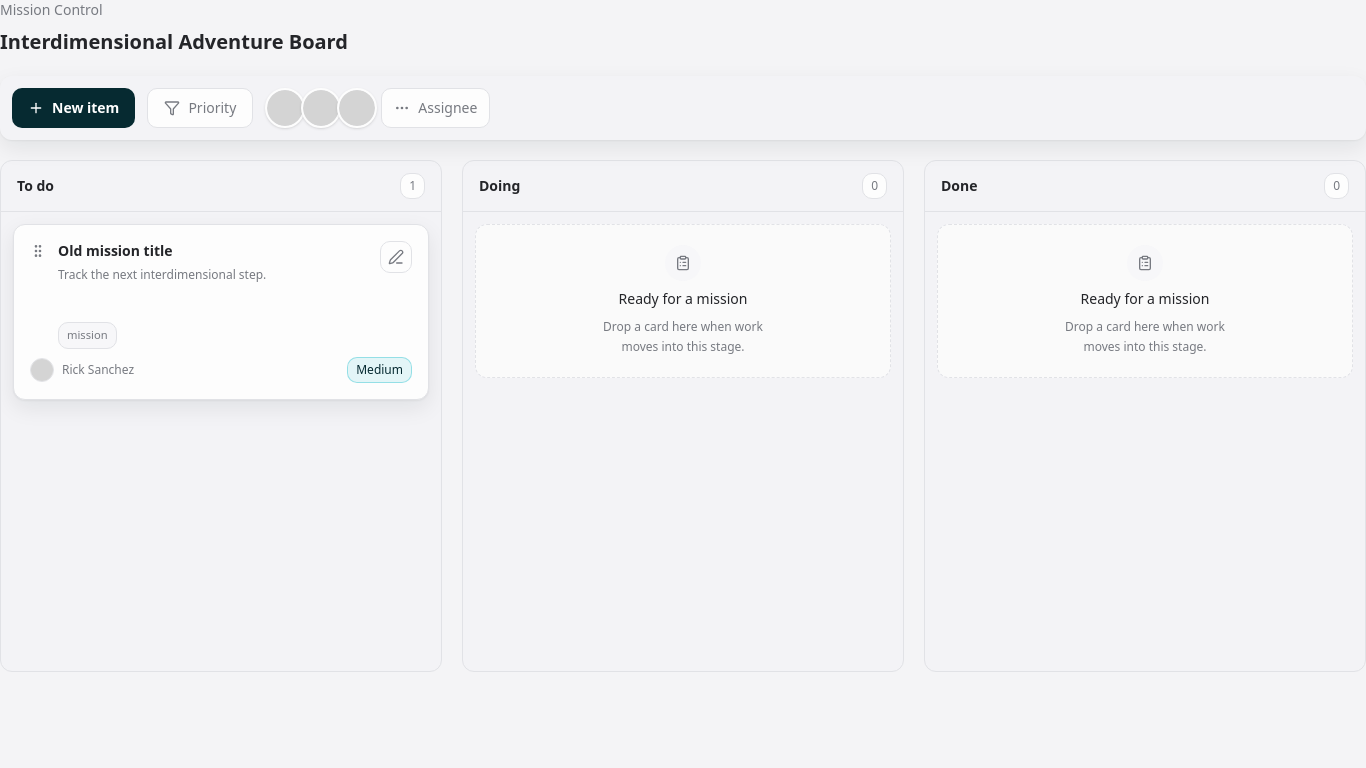
KanbanBoard › edits a card title through the dialog and updates the visible card
Click the button "Old mission title": [115, 251] box [58,241,173,261]
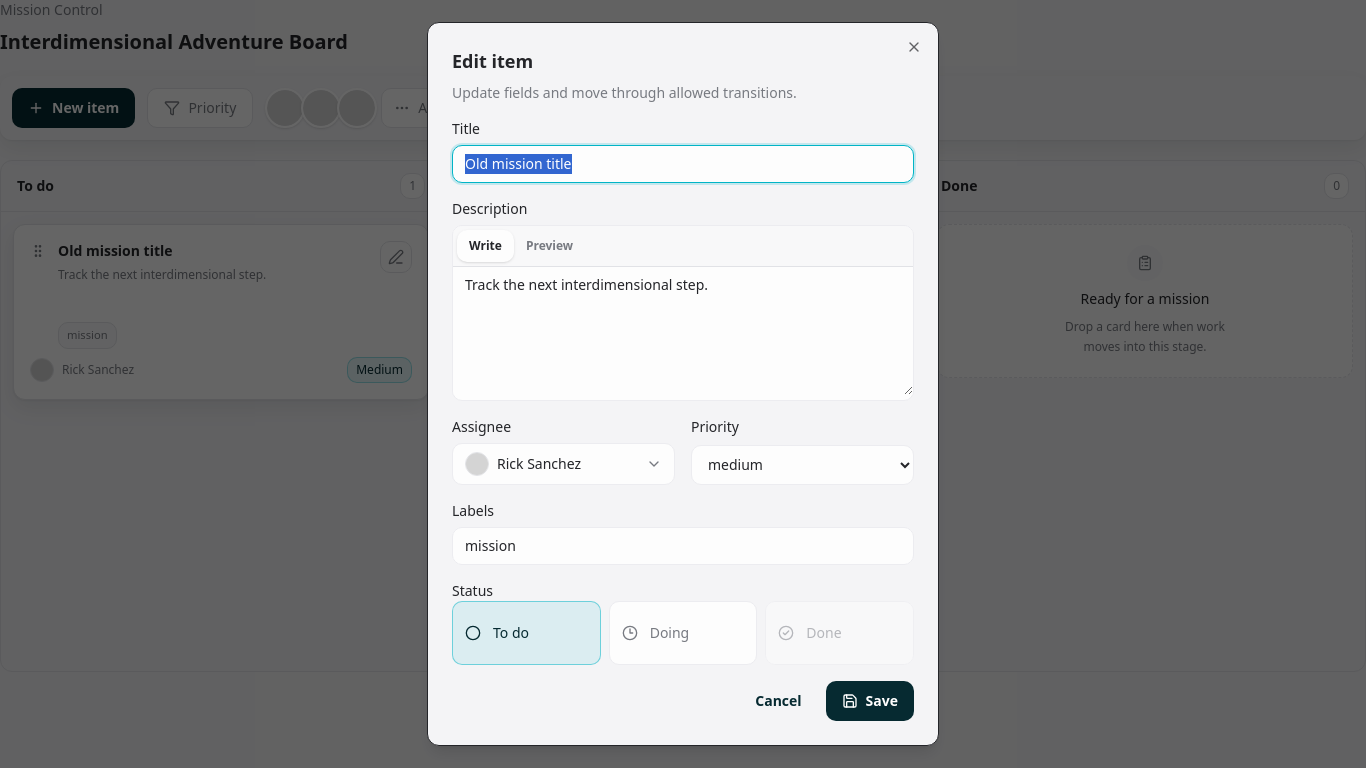
Replace the text in the field labelled "Title" with "Updated mission title": [683, 164] box [452,145,914,183]
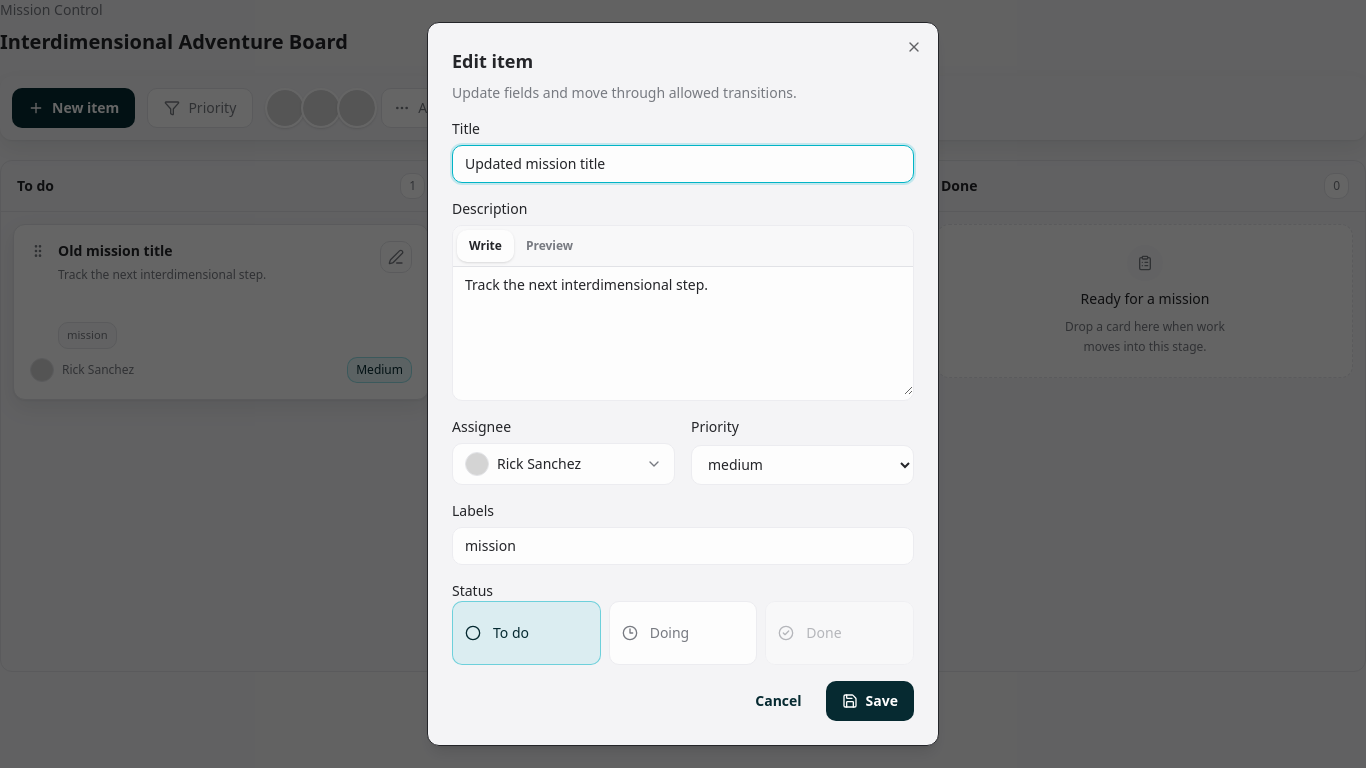
Click the button "Save": [870, 701] box [826,681,914,721]
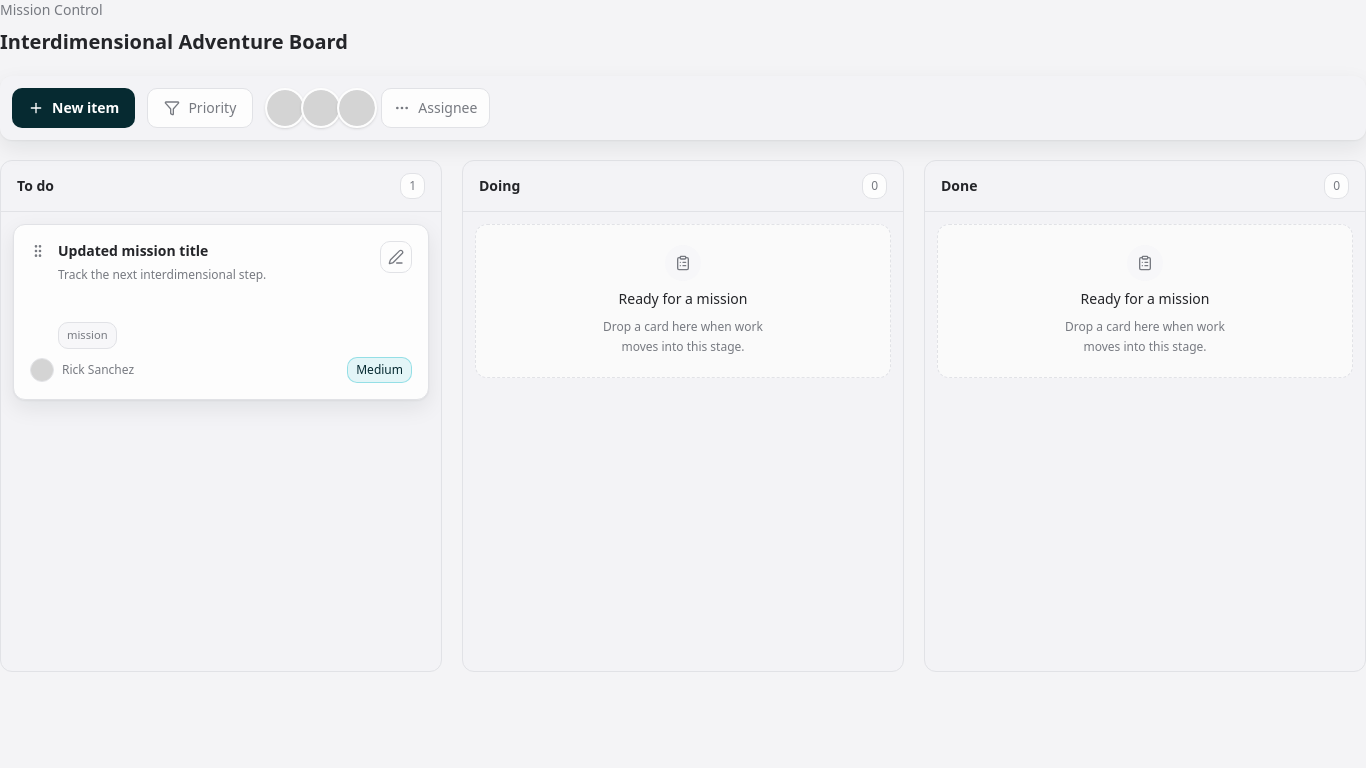
Expected: the button "Updated mission title" is shown, [58,241,208,261]
Expected: the button "Old mission title" is gone
